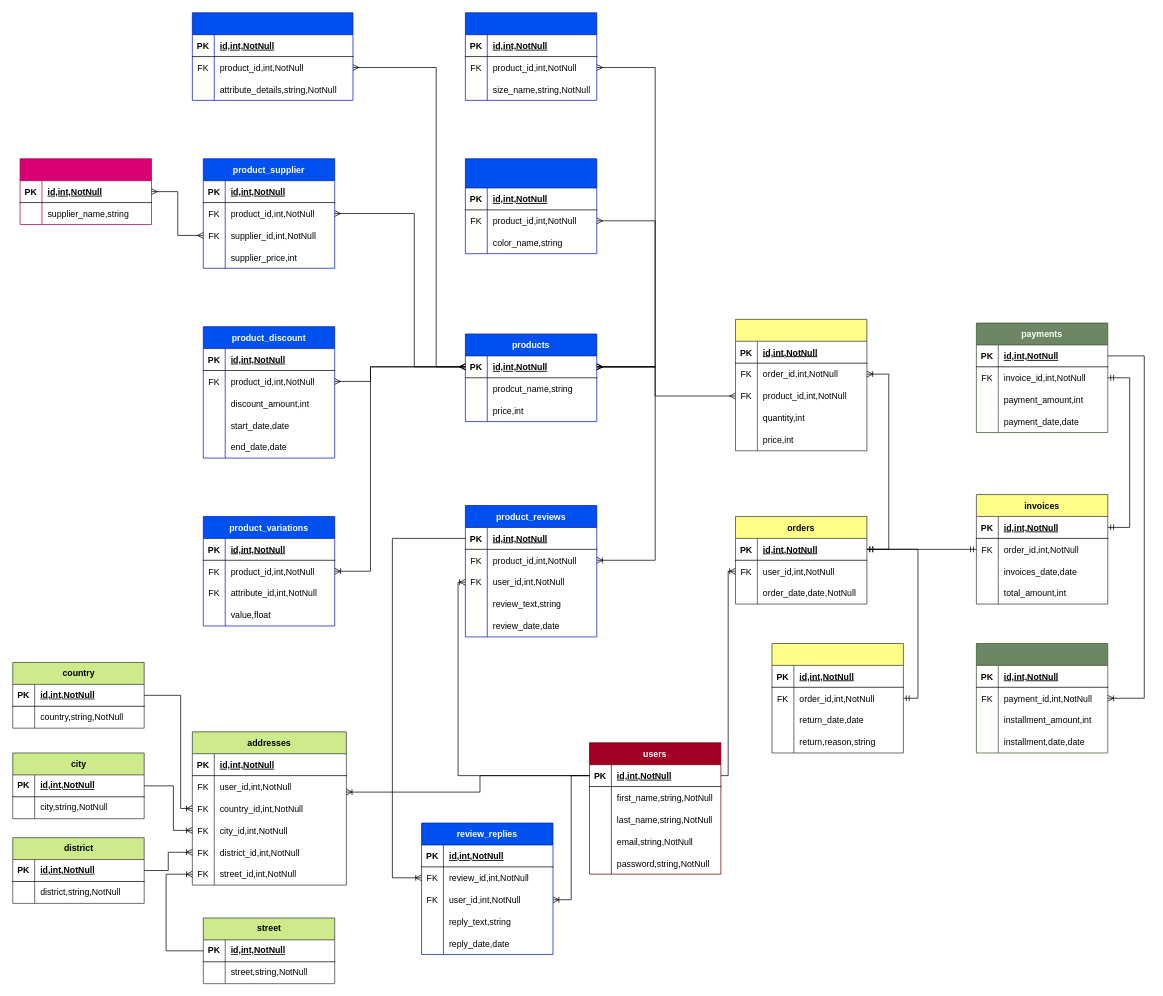
Some shapes in this 1163 by 996 pixel diagram are drawn without their labels. Each missing label, with the box of its shape:
installments: (976, 643, 1108, 753)
order_details: (735, 319, 867, 451)
product_attribute: (192, 12, 353, 100)
product_colors: (465, 158, 597, 254)
product_sizes: (465, 12, 597, 100)
returns: (771, 643, 903, 753)
suppliers: (19, 158, 151, 224)
